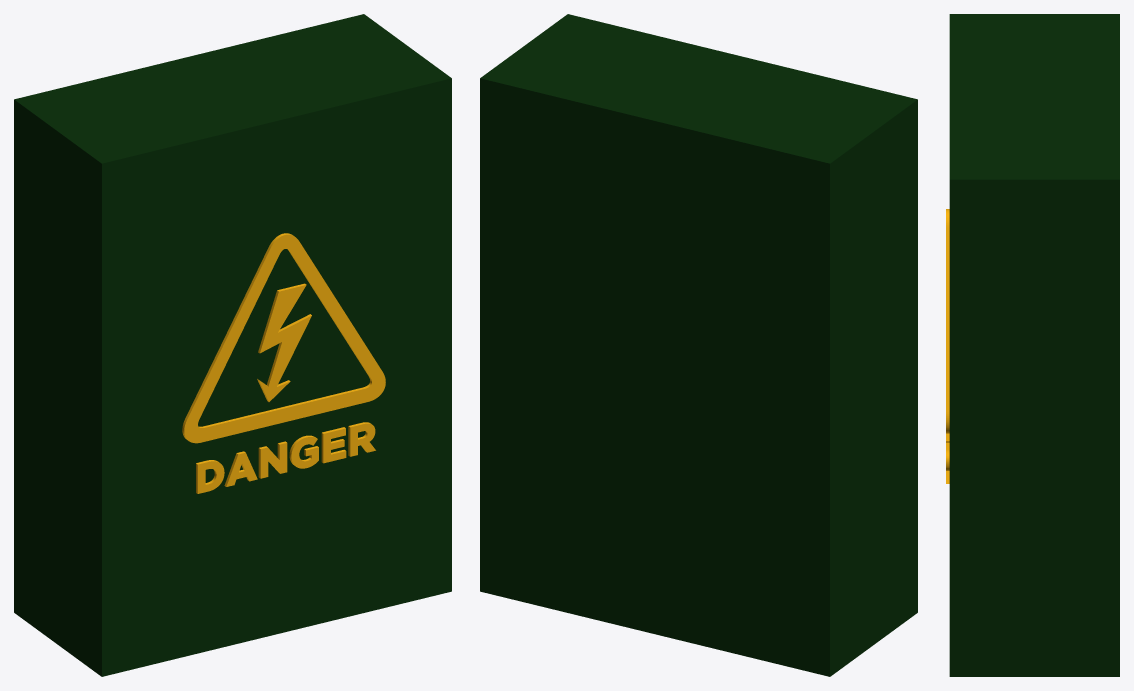
File: cajaElectricidad (1).fbx
3 views of the same model, side by side, from view 1: azimuth 30°, elevation 25°; view 2: azimuth 150°, elevation 25°; view 3: azimuth 270°, elevation 25° (orthographic). The views are drawn at different scales.
Parts seen in each view (by area): view 1: Danger, Danger.001; view 2: Danger; view 3: Danger, Danger.001.
Boxes of the visible parts, x1,y1,x2,y2 form: Danger: (14,14,451,676); Danger.001: (182,233,385,493); Danger: (480,14,917,676); Danger: (949,14,1119,676); Danger.001: (946,209,949,483).
Size of the model in its own units: 23.2 by 32.51 by 10.3.
